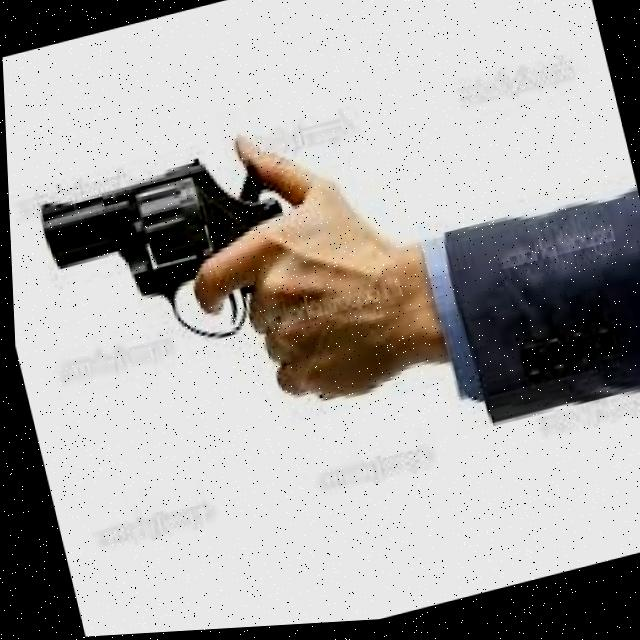pistol: (30, 137, 309, 376)
